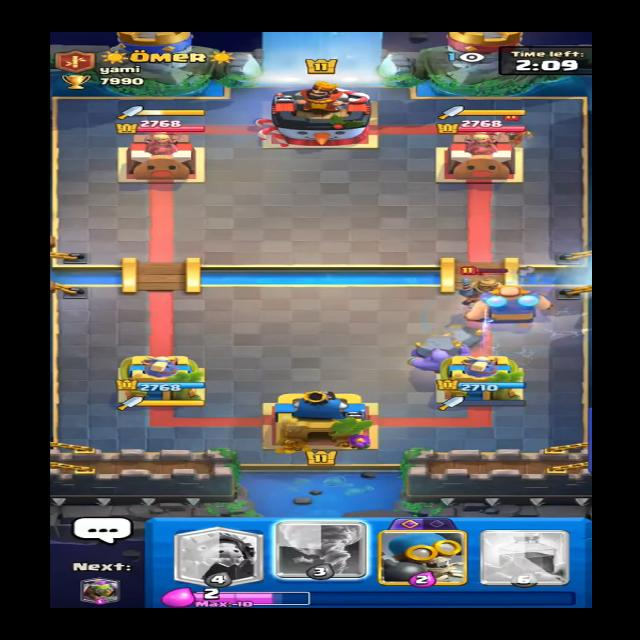Prince: (459, 268, 520, 324)
Wizard: (494, 117, 540, 156)
